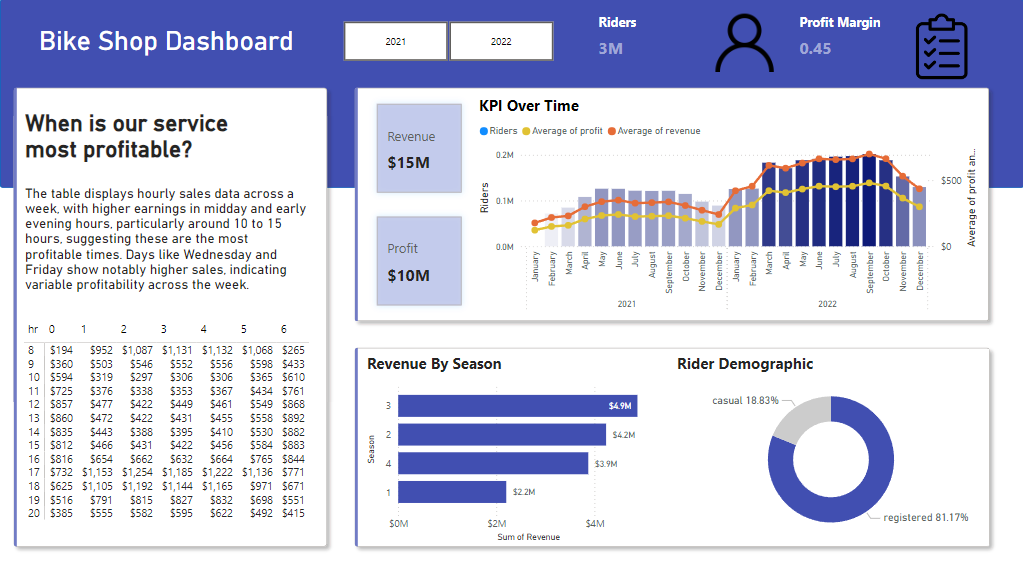

Layout of this report page (visuals, bound fields, positions):
{"tool":"powerbi","page":{"name":"Page 1","canvas":[1280,720],"ordinal":0},"visuals":[{"type":"shape","box":[0,0,1280,236.2],"z":0},{"type":"cardVisual","fields":{"Data":["Min(Query1.riders)"]},"box":[0,93.3,426.7,608.9],"z":1000},{"type":"cardVisual","fields":{"Data":["Min(Query1.riders)"]},"box":[426.7,93.3,827.8,326.7],"z":2000},{"type":"cardVisual","fields":{"Data":["Min(Query1.riders)"]},"box":[426.7,418.9,828.9,283.3],"z":3000},{"type":"pivotTable","fields":{"Values":["Avg(Query1.revenue)"],"Columns":["Query1.weekday"],"Rows":["Query1.hr"]},"box":[25.6,398.9,376.7,270],"z":4000},{"type":"lineClusteredColumnComboChart","title":"KPI Over Time","fields":{"Category":["Query1.dteday.Variation.Date Hierarchy.Year","Query1.dteday.Variation.Date Hierarchy.Month","Query1.dteday.Variation.Date Hierarchy.Day"],"Y":["Sum(Query1.riders)"],"Y2":["Avg(Query1.profit)","Avg(Query1.revenue)"]},"box":[593.3,114.4,632.2,284.4],"z":5000},{"type":"clusteredBarChart","title":"Revenue By Season","fields":{"Category":["Query1.season"],"Y":["Sum(Query1.revenue)"]},"box":[454,437,387,246],"z":6000},{"type":"donutChart","title":"Rider Demographic","fields":{"Category":["Query1.rider_type"],"Y":["Sum(Query1.riders)"]},"box":[841,437,395,246],"z":7000},{"type":"cardVisual","title":"KPI Over Time","fields":{"Data":["Sum(Query1.revenue)","Sum(Query1.profit)"]},"box":[454.4,114.4,138.9,284.4],"z":8000},{"type":"cardVisual","fields":{"Data":["Sum(Query1.riders)","Query1.Profit Margin"]},"box":[731,1,505,105],"z":8001},{"type":"textbox","box":[43.8,27.5,346.2,52.5],"z":8002},{"type":"textbox","box":[26,228,364,163],"z":8003},{"type":"textbox","box":[26,132,300,81],"z":8004},{"type":"slicer","fields":{"Values":["Query1.Years"]},"box":[389.2,6.7,341.7,92.5],"z":8005}]}

Visuals, with their boxes in screenshot pixels (x1, y1, x2, y2), scaled from the page's 1280x720 canvas onto the 1023x572 screenshot:
shape: <bbox>0, 0, 1022, 188</bbox>
cardVisual - Min(Query1.riders): <bbox>0, 74, 341, 558</bbox>
cardVisual - Min(Query1.riders): <bbox>341, 74, 1003, 334</bbox>
cardVisual - Min(Query1.riders): <bbox>341, 333, 1003, 558</bbox>
pivotTable - Avg(Query1.revenue) x Query1.weekday: <bbox>20, 317, 322, 531</bbox>
"KPI Over Time" lineClusteredColumnComboChart: <bbox>474, 91, 979, 317</bbox>
"Revenue By Season" clusteredBarChart: <bbox>363, 347, 672, 543</bbox>
"Rider Demographic" donutChart: <bbox>672, 347, 988, 543</bbox>
"KPI Over Time" cardVisual: <bbox>363, 91, 474, 317</bbox>
cardVisual - Sum(Query1.riders) x Query1.Profit Margin: <bbox>584, 1, 988, 84</bbox>
textbox: <bbox>35, 22, 312, 64</bbox>
textbox: <bbox>21, 181, 312, 311</bbox>
textbox: <bbox>21, 105, 261, 169</bbox>
slicer - Query1.Years: <bbox>311, 5, 584, 79</bbox>
